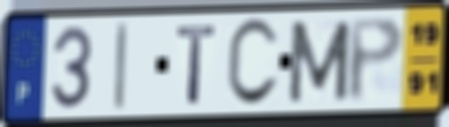3: (49, 23, 95, 113)
C: (224, 15, 282, 111)
I: (112, 19, 130, 114)
M: (285, 18, 353, 106)
P: (346, 14, 407, 106)
T: (174, 22, 220, 106)
